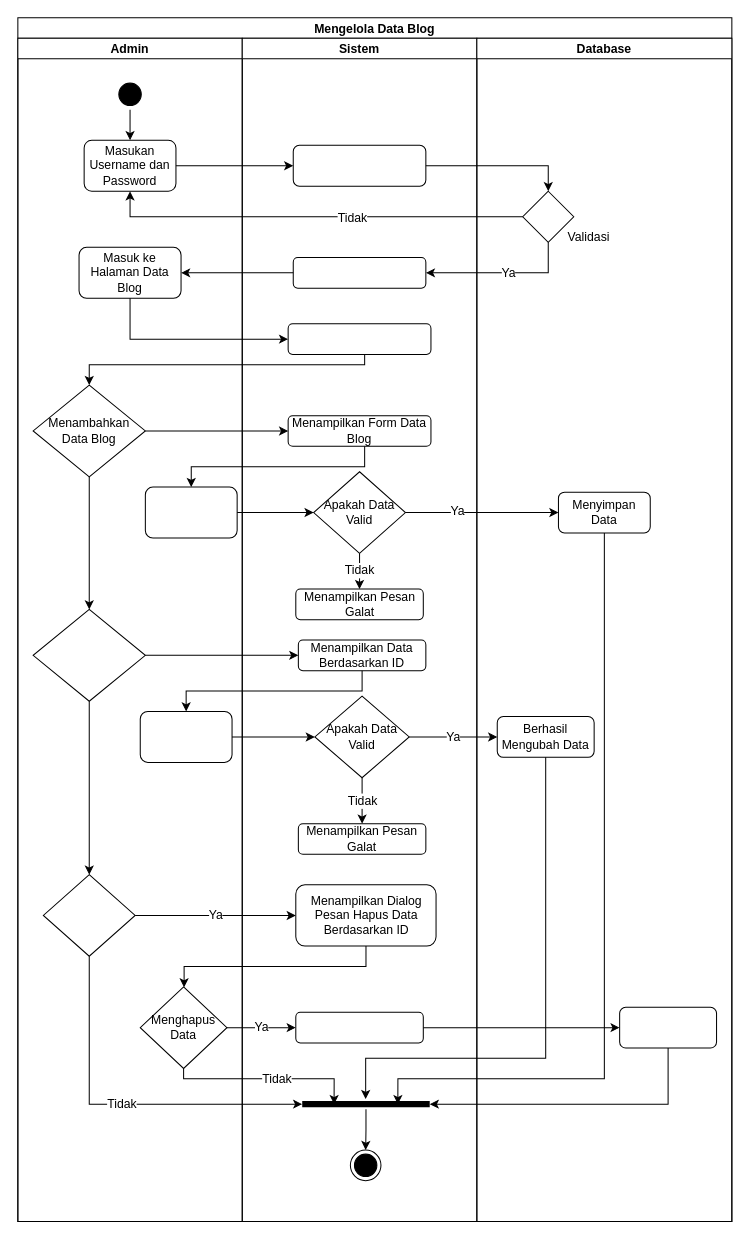
This 750x1239 diagram has some shape labels left out. The shapes that lost their labels are listed below. From the top down, each one's centre as x and y in pixels, then its label:
At (359,165): "Memperoses Username dan Password".
At (359,272): "Beranda".
At (359,338): "Menampilkan Data Blog".
At (190,512): "Mengisi Data Blog".
At (88,654): "Mengubah Data Blog".
At (185,736): "Mengubah Data".
At (88,915): "Menghapus Data Blog".
At (359,1027): "Memperoses Hapus Data".
At (668,1027): "Berhasil DIhapus".
